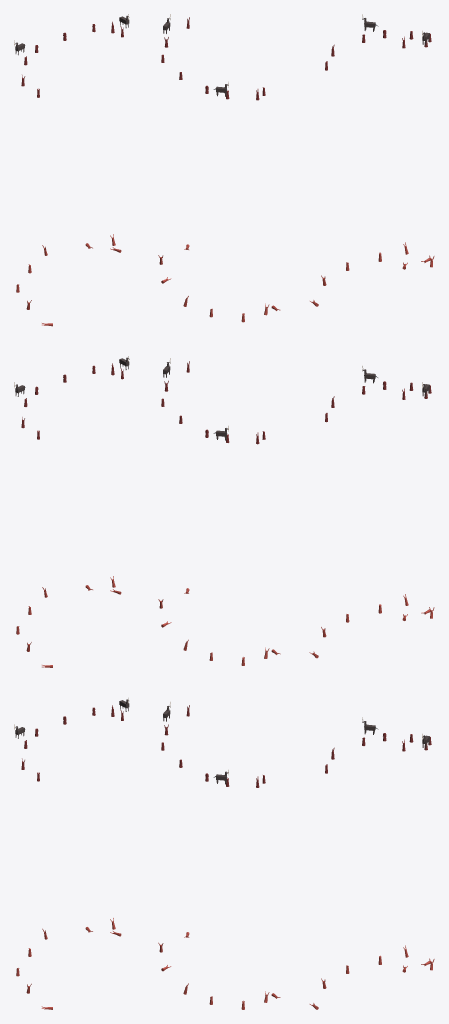
File: Circle7Folk0.obj
3 views of the same model, side by side, from view 1: azimuth 30°, elevation 25°; view 2: azimuth 150°, elevation 25°; view 3: azimuth 330°, elevation 25° (orthographic). The views are drawn at different scales.
Parts seen in each view (by area): view 1: Circle7Folk0; view 2: Circle7Folk0; view 3: Circle7Folk0.
Part boxes in pixels (box(x1,y1,x2,y2)): Circle7Folk0: box(14, 14, 129, 1009); Circle7Folk0: box(158, 14, 280, 1009); Circle7Folk0: box(309, 14, 434, 1009).
Size of the model in its own units: 28.15 by 254 by 23.27.
Materials: 1 (1 with a texture image).
